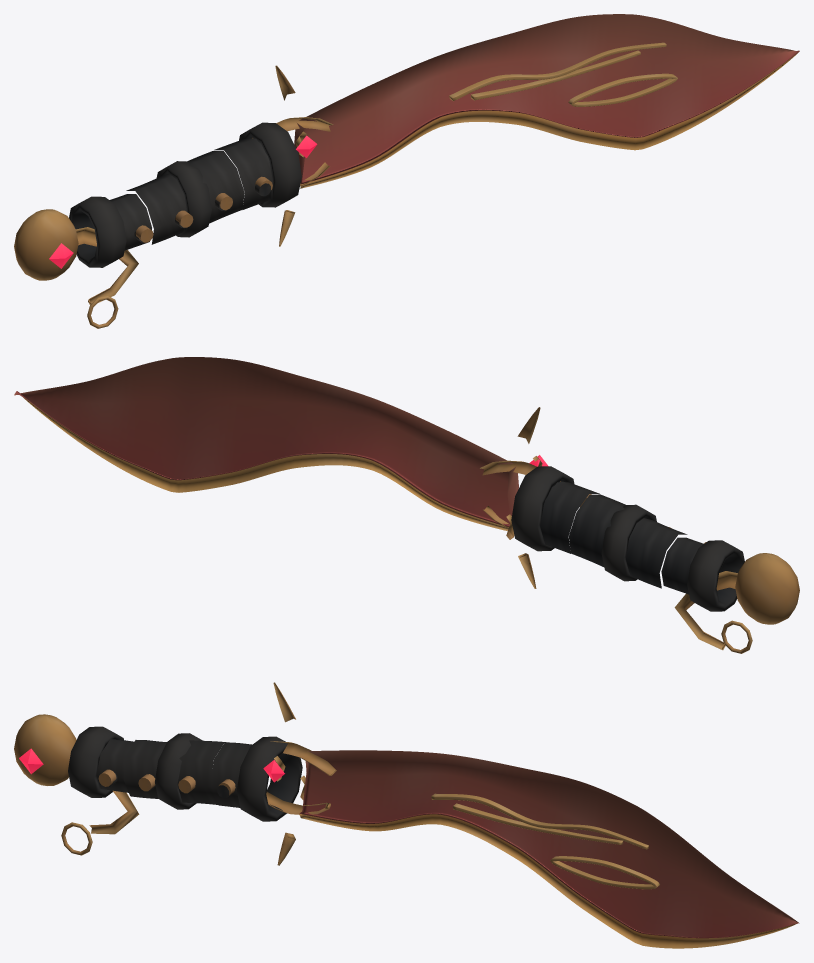
Rendered from dragonfang-kukri-assembly-r2.glb.
3 renders of one model, top to bottom at view 1: azimuth 30°, elevation 25°; view 2: azimuth 150°, elevation 25°; view 3: azimuth 330°, elevation 25°, orthographic.
Parts seen in each view (by area): view 1: knife-part:blade-body, knife-part:grip, knife-part:cutting-edge, knife-part:pommel, knife-part:relief-dragon-spine, knife-part:guard, knife-part:relief-dragon-belly; view 2: knife-part:blade-body, knife-part:grip, knife-part:pommel, knife-part:cutting-edge, knife-part:guard; view 3: knife-part:blade-body, knife-part:grip, knife-part:cutting-edge, knife-part:pommel, knife-part:relief-dragon-spine, knife-part:guard, knife-part:relief-dragon-belly.
Boxes of the visible parts, bbox=[...] form: knife-part:blade-body: bbox=[294, 14, 799, 184]; knife-part:grip: bbox=[69, 122, 301, 267]; knife-part:cutting-edge: bbox=[300, 52, 798, 188]; knife-part:pommel: bbox=[14, 209, 138, 328]; knife-part:relief-dragon-spine: bbox=[449, 42, 666, 101]; knife-part:guard: bbox=[252, 65, 333, 246]; knife-part:relief-dragon-belly: bbox=[568, 73, 677, 106]; knife-part:blade-body: bbox=[14, 357, 518, 526]; knife-part:grip: bbox=[511, 466, 744, 611]; knife-part:pommel: bbox=[674, 553, 799, 653]; knife-part:cutting-edge: bbox=[23, 397, 508, 530]; knife-part:guard: bbox=[480, 407, 560, 588]; knife-part:blade-body: bbox=[299, 750, 799, 938]; knife-part:grip: bbox=[68, 726, 302, 821]; knife-part:cutting-edge: bbox=[299, 813, 796, 948]; knife-part:pommel: bbox=[14, 714, 139, 855]; knife-part:relief-dragon-spine: bbox=[431, 793, 648, 849]; knife-part:guard: bbox=[266, 682, 336, 865]; knife-part:relief-dragon-belly: bbox=[550, 856, 659, 889].
Bounding box in the file's own units: 3.14 × 0.8002 × 0.303.
